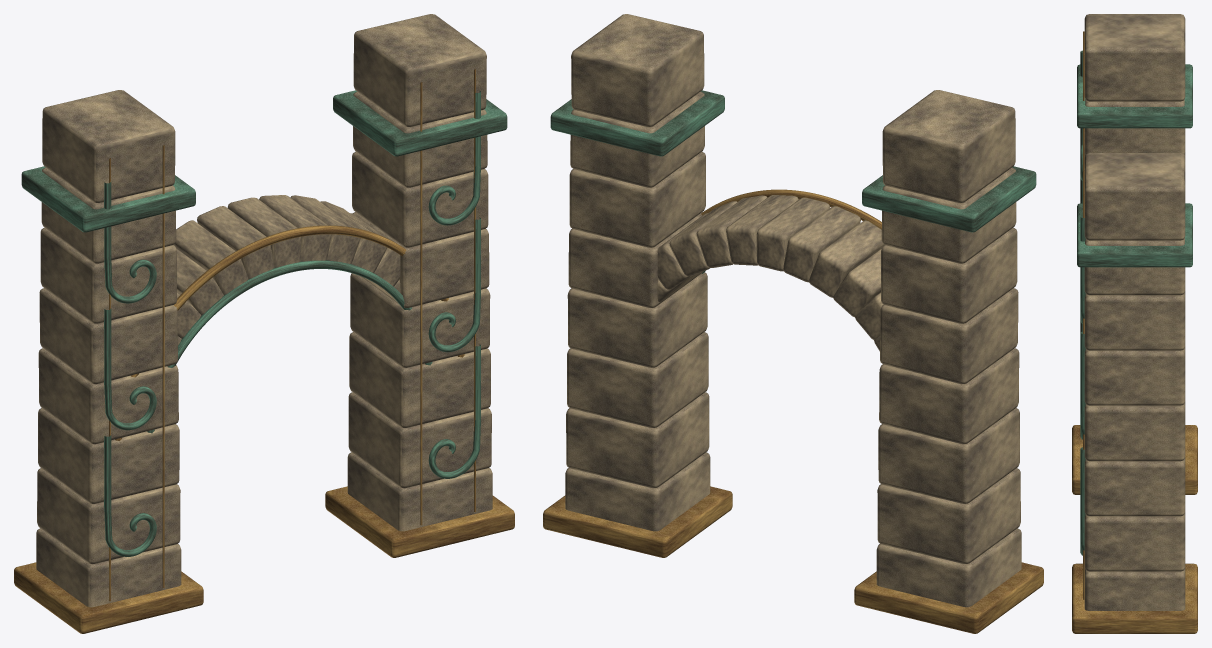
The model's file is gate.glb.
The picture shows the model from 3 angles, left to right: view 1: azimuth 30°, elevation 25°; view 2: azimuth 150°, elevation 25°; view 3: azimuth 270°, elevation 25°; orthographic projection. The views are drawn at different scales.
Parts seen in each view (by area): view 1: cut stone drum.007, cut stone drum.015, cut stone drum.002, cut stone drum.010, cut stone drum.004, cut stone drum.001, cut stone drum.009, cut stone drum.003, cut stone drum.011, cut stone drum.005, cut stone drum.013, cut stone drum.008 (+26 smaller); view 2: cut stone drum.007, cut stone drum.015, cut stone drum.001, cut stone drum.009, cut stone drum.010, cut stone drum.002, cut stone drum.003, cut stone drum.011, cut stone drum.004, cut stone drum.005, cut stone drum.013, cut stone drum.008 (+18 smaller); view 3: cut stone drum.007, cut stone drum.015, cut stone drum.011, cut stone drum.013, cut stone drum.009, cut stone drum.012, cut stone drum.010, cut stone drum.008, bronze footing.001, cut stone drum.014, cut stone drum.006, shoulder capital (+7 smaller).
Part boxes in pixels (x1,y1,x2,y2): cut stone drum.007: (42, 90, 175, 202); cut stone drum.015: (353, 14, 486, 126); cut stone drum.002: (38, 408, 179, 503); cut stone drum.010: (349, 332, 490, 427); cut stone drum.004: (39, 288, 177, 384); cut stone drum.001: (37, 468, 180, 564); cut stone drum.009: (348, 392, 491, 488); cut stone drum.003: (38, 348, 178, 444); cut stone drum.011: (350, 273, 490, 367); cut stone drum.005: (40, 227, 176, 323); cut stone drum.013: (352, 151, 488, 247); cut stone drum.008: (347, 452, 492, 531); cut stone drum.007: (882, 90, 1015, 202); cut stone drum.015: (571, 14, 704, 126); cut stone drum.001: (877, 468, 1020, 564); cut stone drum.009: (566, 392, 709, 488); cut stone drum.010: (567, 332, 708, 427); cut stone drum.002: (878, 408, 1019, 503); cut stone drum.003: (879, 348, 1019, 444); cut stone drum.011: (567, 272, 707, 367); cut stone drum.004: (880, 288, 1018, 384); cut stone drum.005: (881, 227, 1017, 323); cut stone drum.013: (569, 151, 705, 247); cut stone drum.008: (565, 452, 710, 531); cut stone drum.007: (1084, 14, 1185, 101); cut stone drum.015: (1084, 153, 1185, 240); cut stone drum.011: (1084, 402, 1185, 461); cut stone drum.013: (1084, 291, 1185, 350); cut stone drum.009: (1084, 512, 1185, 571); cut stone drum.012: (1084, 347, 1185, 405); cut stone drum.010: (1084, 457, 1185, 516); cut stone drum.008: (1084, 568, 1185, 610); bronze footing.001: (1072, 563, 1197, 633); cut stone drum.014: (1084, 238, 1185, 295); cut stone drum.006: (1084, 99, 1185, 154); shoulder capital: (1077, 64, 1192, 128).
Size of the model in its own units: 11.32 by 11.92 by 3.1.
3 materials, 3 textured.
